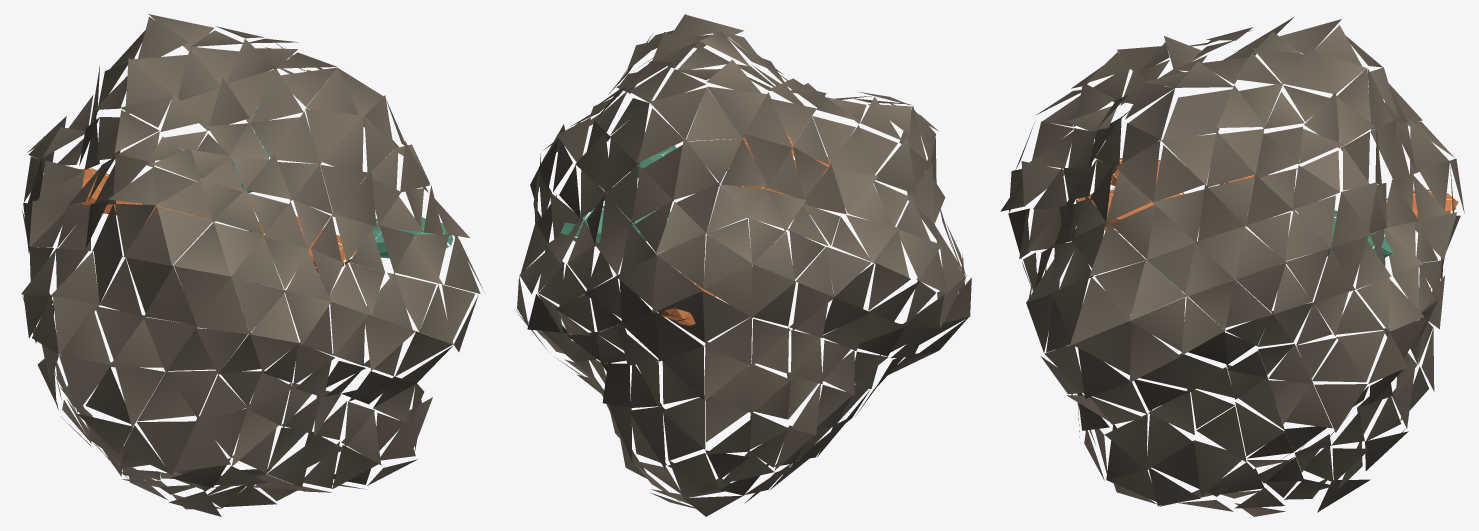
Rendered from small-lod1.glb.
3 renders of one model, left to right at view 1: azimuth 30°, elevation 25°; view 2: azimuth 150°, elevation 25°; view 3: azimuth 270°, elevation 25°, orthographic. The views are drawn at different scales.
Parts seen in each view (by area): view 1: copper-host-rock, copper-mineral-seams; view 2: copper-host-rock, copper-mineral-seams; view 3: copper-host-rock, copper-mineral-seams.
Part boxes in pixels (x1,y1,x2,y2): copper-host-rock: (21, 14, 484, 516); copper-mineral-seams: (79, 133, 453, 272); copper-host-rock: (516, 14, 971, 516); copper-mineral-seams: (560, 129, 833, 325); copper-host-rock: (1000, 16, 1464, 516); copper-mineral-seams: (1076, 158, 1458, 312).
Bounding box in the file's own units: 1.64 × 1.81 × 1.61.
